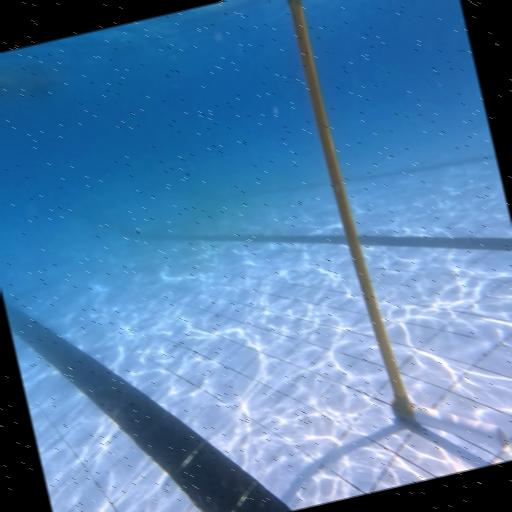pole_gate: (282, 0, 414, 427)
